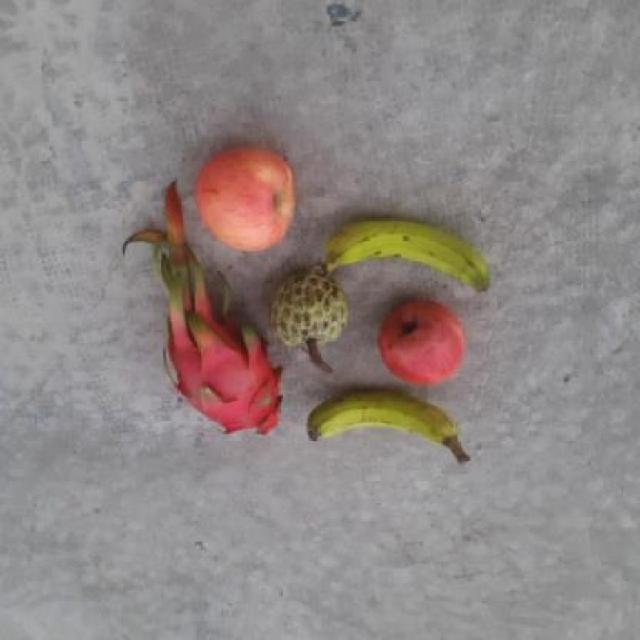apple: (190, 146, 296, 259), (373, 293, 472, 387)
banana: (316, 217, 493, 301), (305, 392, 473, 457)
dragon fruit: (156, 308, 290, 434)
sugar apple: (266, 271, 346, 347)
